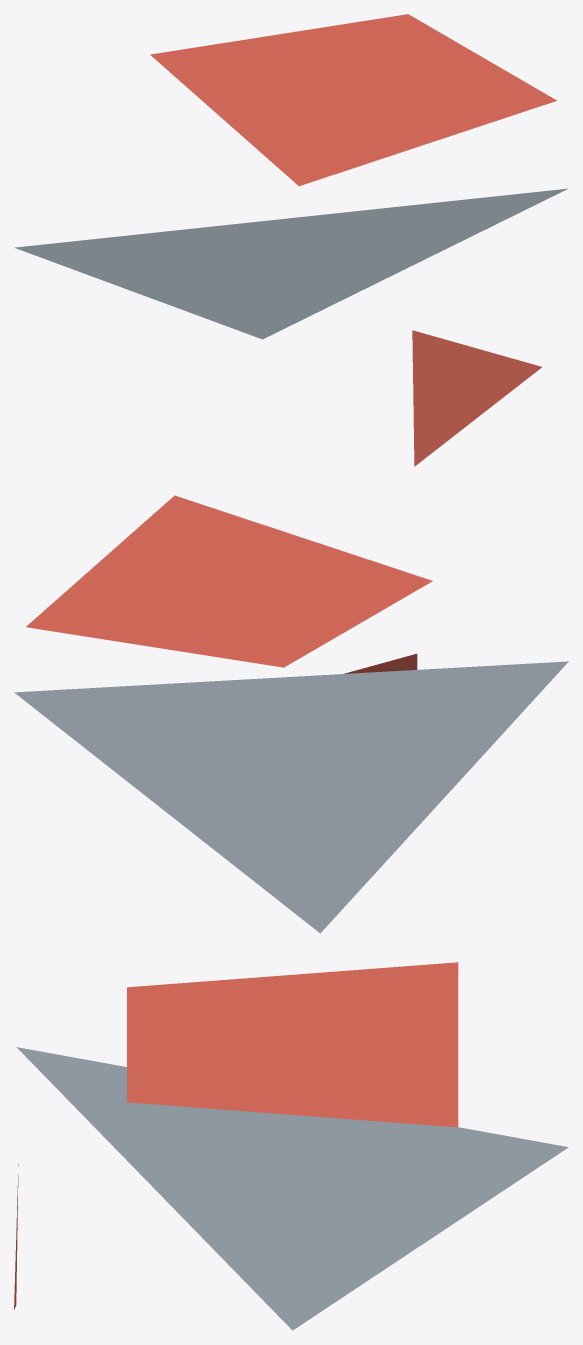
File: SU_ConYard_LOD2.glb
3 renders of one model, top to bottom at view 1: azimuth 30°, elevation 25°; view 2: azimuth 150°, elevation 25°; view 3: azimuth 270°, elevation 25°, orthographic. The views are drawn at different scales.
Parts seen in each view (by area): view 1: EntranceGate; view 2: EntranceGate; view 3: EntranceGate.
Boxes of the visible parts, <box> form: EntranceGate: <box>14,14,567,466</box>; EntranceGate: <box>14,495,568,933</box>; EntranceGate: <box>14,962,568,1330</box>.
Size of the model in its own units: 800 by 500 by 803.
